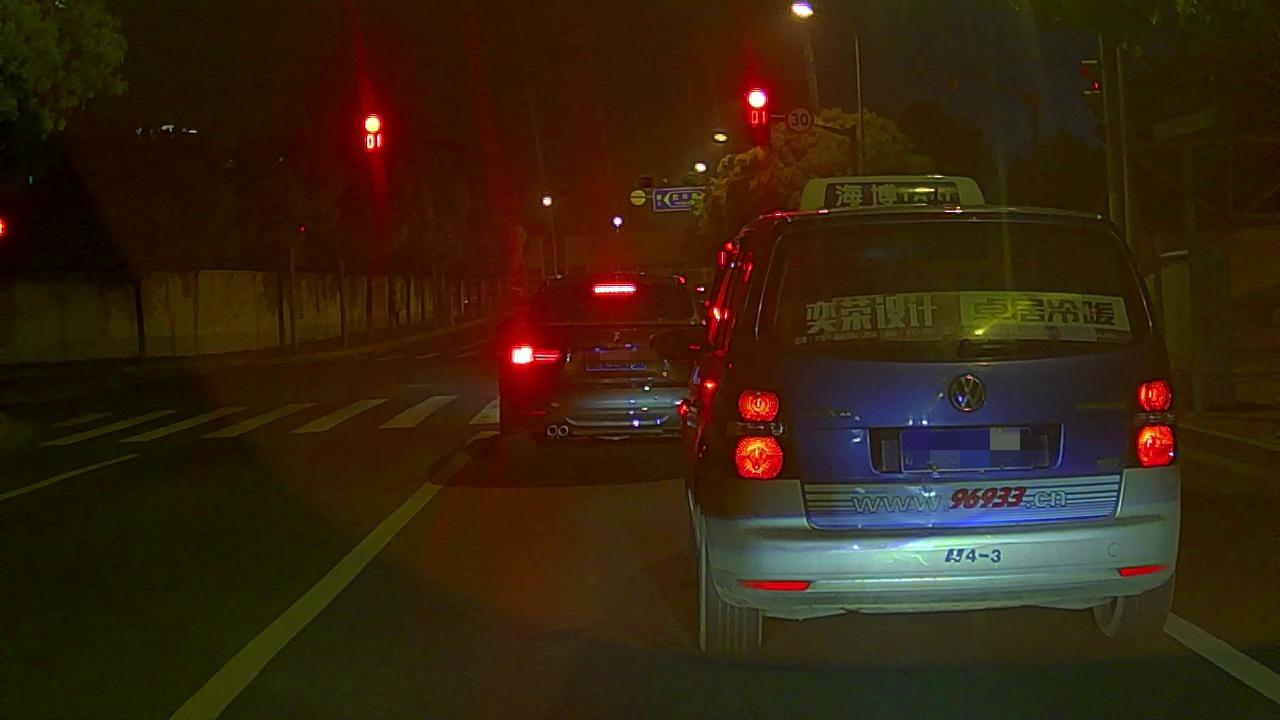traffic_light: (748, 88, 769, 147), (365, 113, 382, 152)
